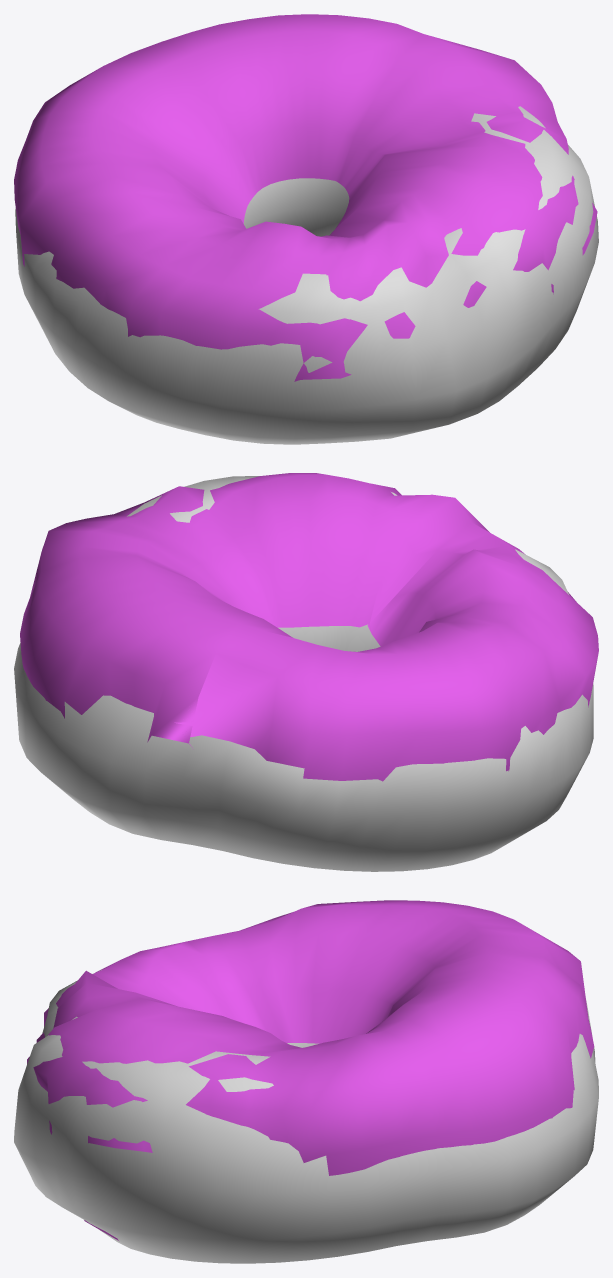
Rendered from donut2.glb.
The picture shows the model from 3 angles, top to bottom: view 1: azimuth 30°, elevation 25°; view 2: azimuth 150°, elevation 25°; view 3: azimuth 270°, elevation 25°; orthographic projection. The views are drawn at different scales.
Visible parts, largest first — view 1: Torus.014, Torus.015; view 2: Torus.014, Torus.015; view 3: Torus.014, Torus.015.
Part boxes in pixels (<box>): Torus.014: <box>14,14,597,381</box>; Torus.015: <box>15,106,598,444</box>; Torus.014: <box>20,473,598,781</box>; Torus.015: <box>14,476,593,871</box>; Torus.014: <box>27,900,594,1240</box>; Torus.015: <box>14,969,598,1263</box>.
Size of the model in its own units: 0.3945 by 0.1994 by 0.4099.
